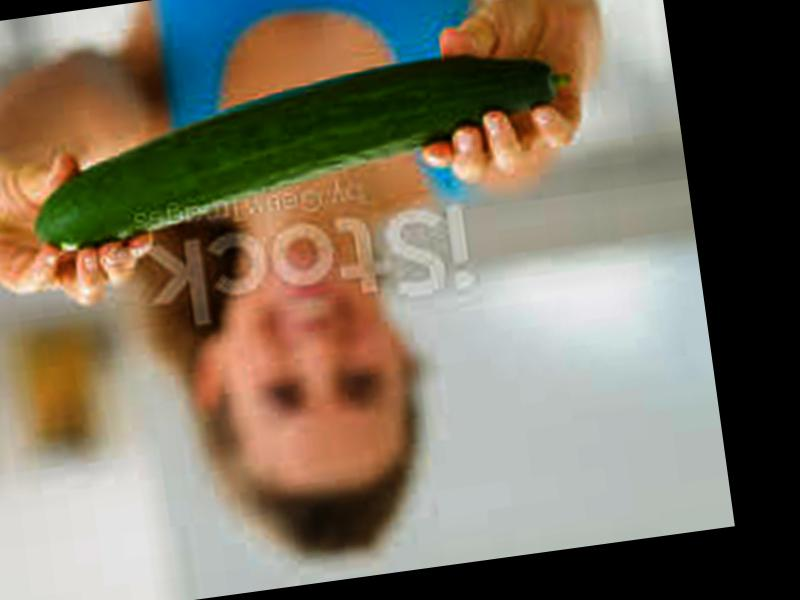Cucumber: (18, 41, 582, 248)
